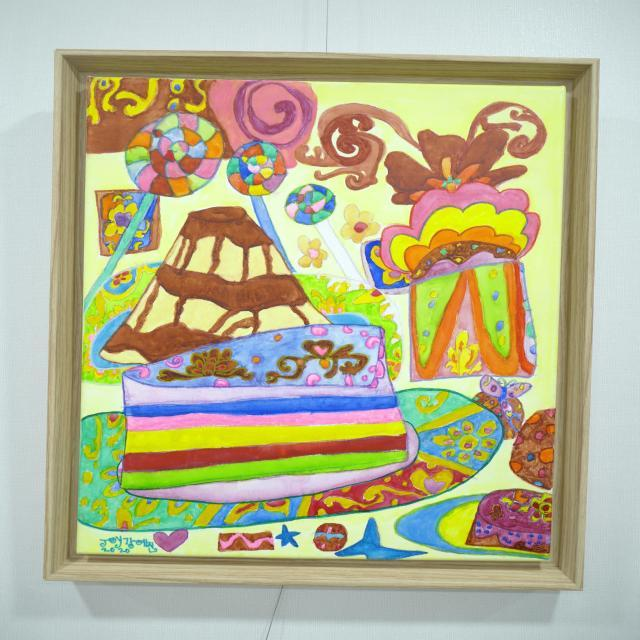painting: (74, 75, 567, 562)
